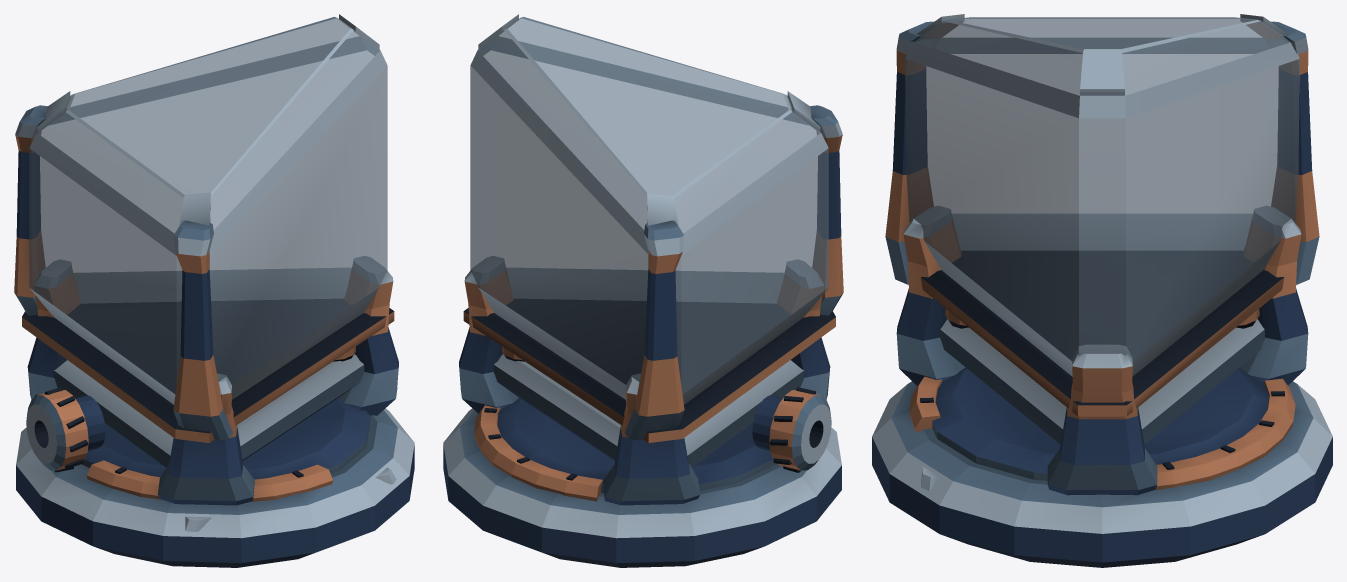
Rendered from prism.glb.
3 views of the same model, side by side, from view 1: azimuth 30°, elevation 25°; view 2: azimuth 150°, elevation 25°; view 3: azimuth 270°, elevation 25° (orthographic). The views are drawn at different scales.
Parts seen in each view (by area): view 1: prism; view 2: prism; view 3: prism.
Boxes of the visible parts, x1,y1,x2,y2 form: prism: [14, 14, 414, 567]; prism: [443, 14, 843, 567]; prism: [872, 14, 1332, 567].
Size of the model in its own units: 1.02 by 1.25 by 1.02.
